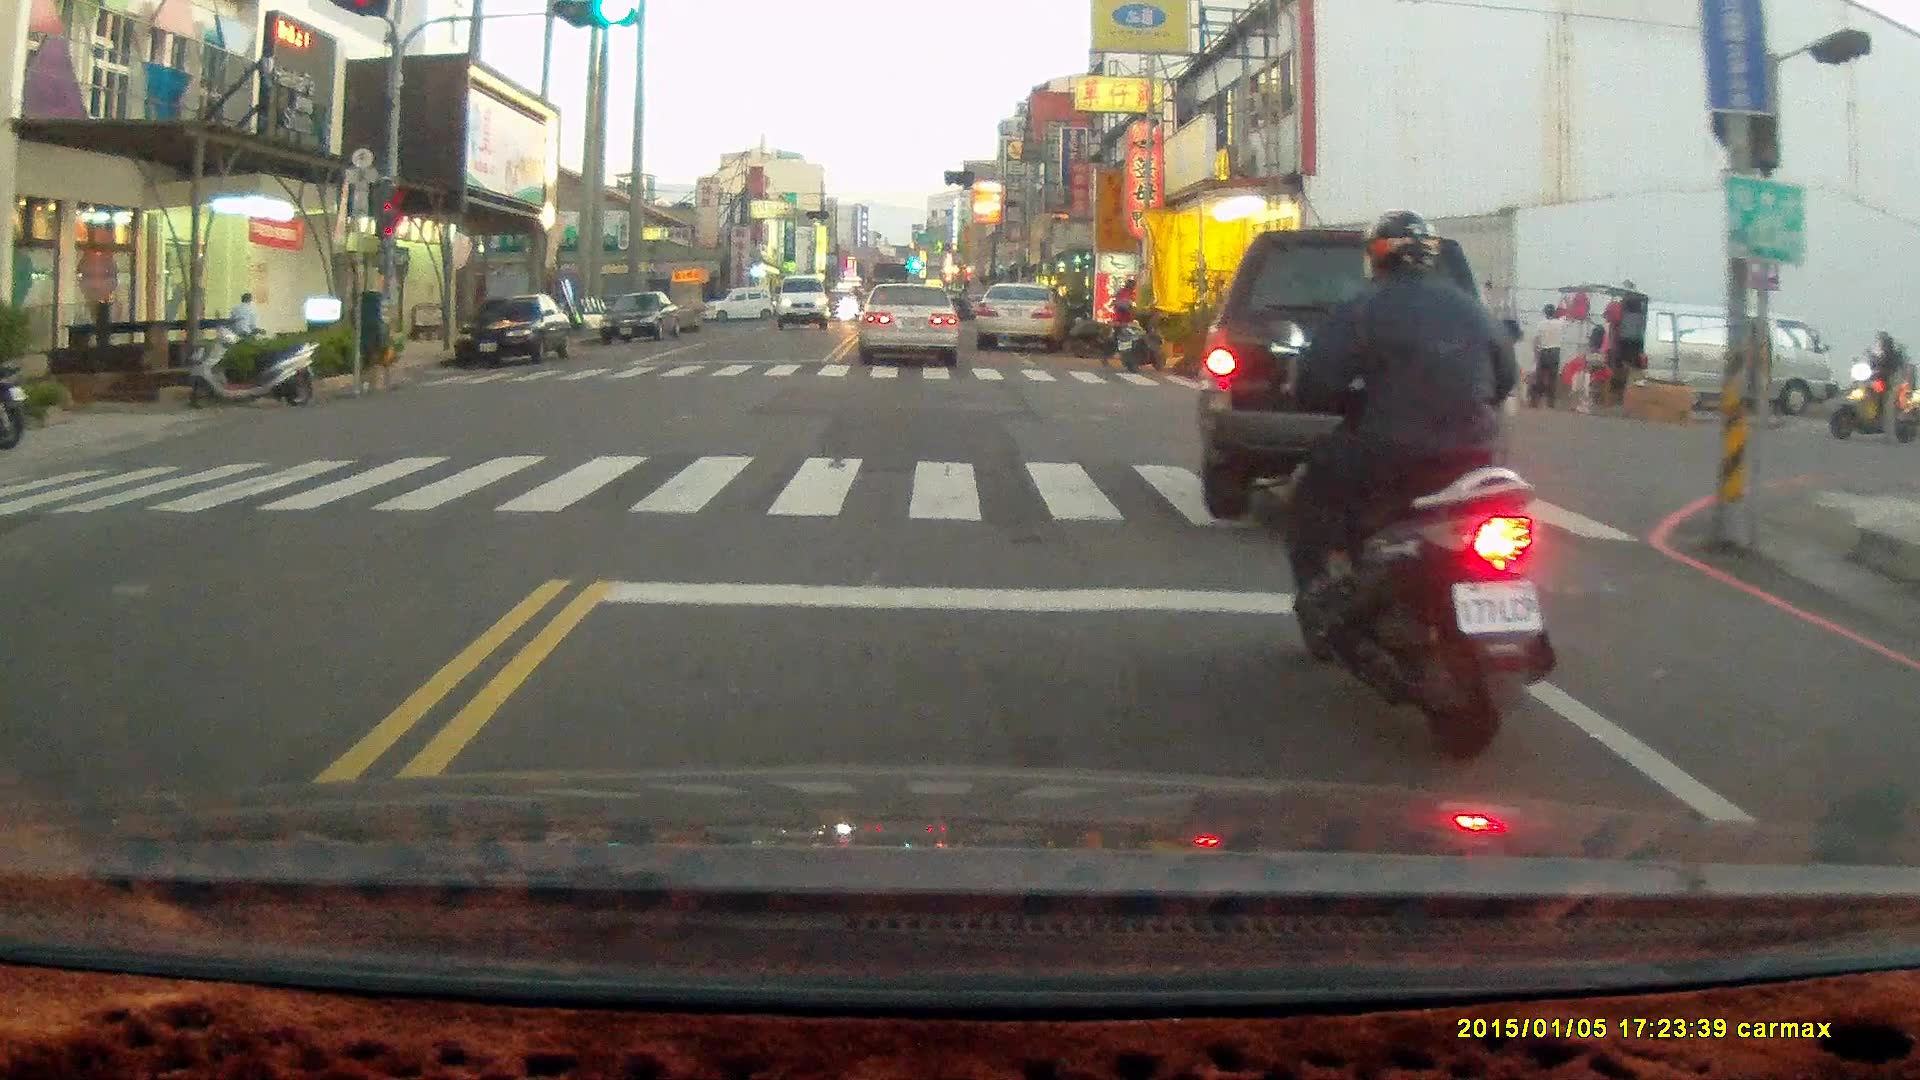pedestrian: (1527, 301, 1566, 410), (1102, 275, 1134, 366), (228, 290, 264, 355)
rider: (1262, 208, 1554, 763), (1824, 329, 1917, 445)
vehicle: (1190, 234, 1528, 539), (1598, 299, 1841, 418), (457, 292, 573, 372), (857, 281, 964, 363), (976, 278, 1064, 354), (600, 289, 683, 344), (776, 272, 831, 331)
